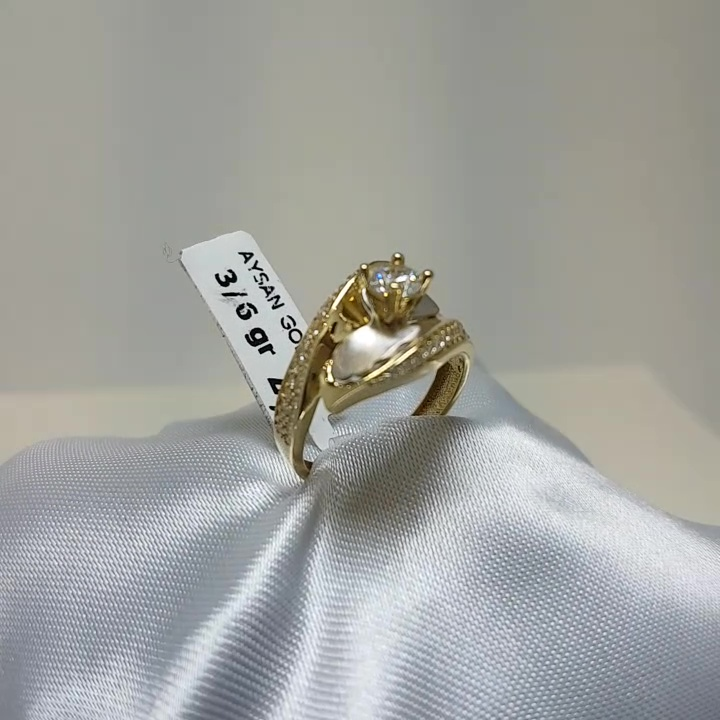Ring 6: (267, 248, 481, 482)
